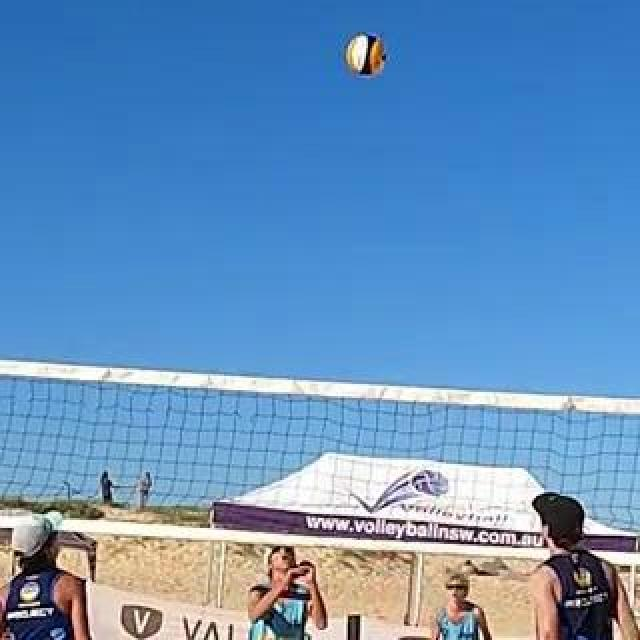volleyball: (347, 34, 387, 74)
